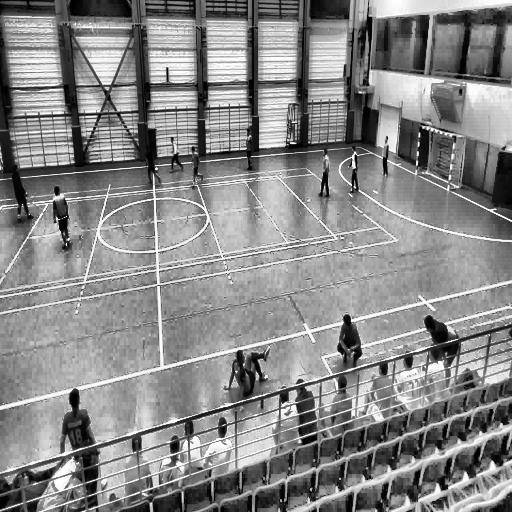ball: (153, 166, 159, 174)
player: (52, 184, 73, 251), (12, 162, 34, 225), (337, 313, 362, 368), (319, 148, 331, 199), (145, 140, 157, 189), (169, 135, 184, 174), (190, 144, 202, 188), (349, 144, 359, 194), (244, 128, 255, 171), (381, 136, 389, 179)
